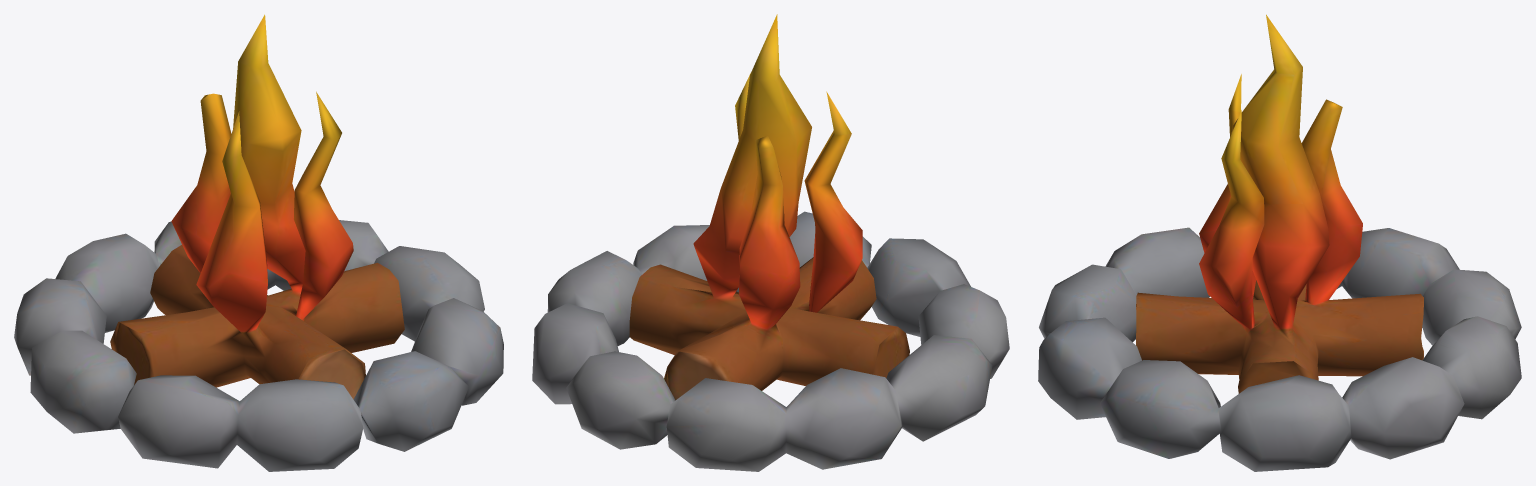
File: campfire.glb
3 renders of one model, left to right at view 1: azimuth 30°, elevation 25°; view 2: azimuth 150°, elevation 25°; view 3: azimuth 270°, elevation 25°, orthographic. The views are drawn at different scales.
Parts seen in each view (by area): view 1: tripo_node_d652bdbd-ef1e-4018-8766-918396d2521e; view 2: tripo_node_d652bdbd-ef1e-4018-8766-918396d2521e; view 3: tripo_node_d652bdbd-ef1e-4018-8766-918396d2521e.
Part boxes in pixels (x1,y1,x2,y2): tripo_node_d652bdbd-ef1e-4018-8766-918396d2521e: (14,14,503,471); tripo_node_d652bdbd-ef1e-4018-8766-918396d2521e: (532,14,1009,471); tripo_node_d652bdbd-ef1e-4018-8766-918396d2521e: (1038,14,1521,471).
Size of the model in its own units: 1.4 by 1.14 by 1.38.
1 material, 1 textured.
